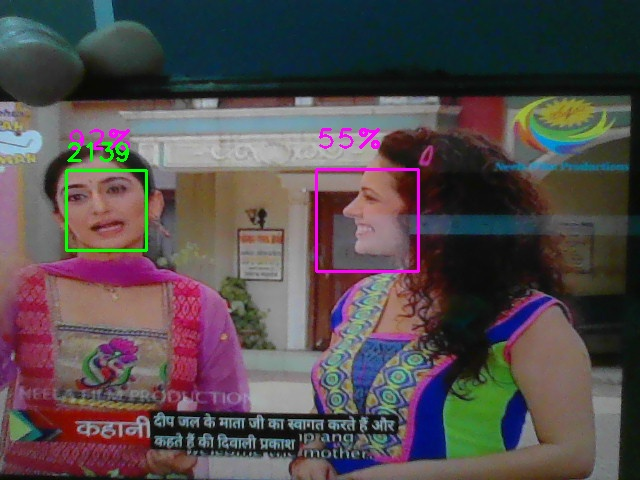fake: (66, 170, 147, 251)
